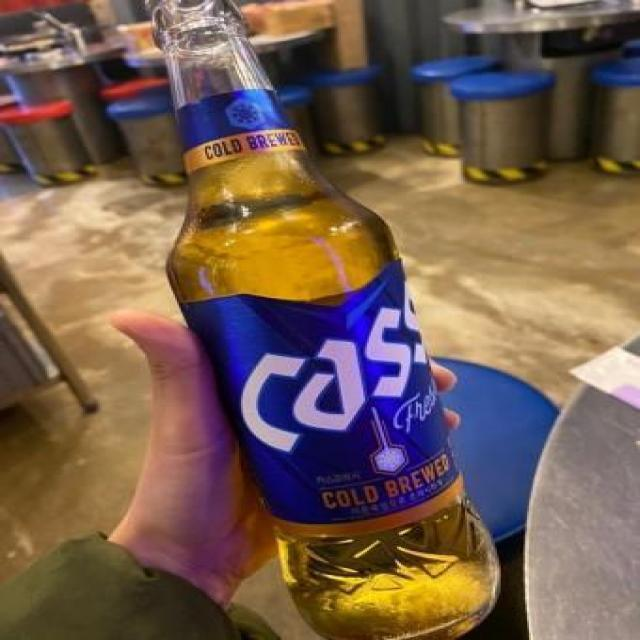beer-bottle: (148, 0, 510, 640)
